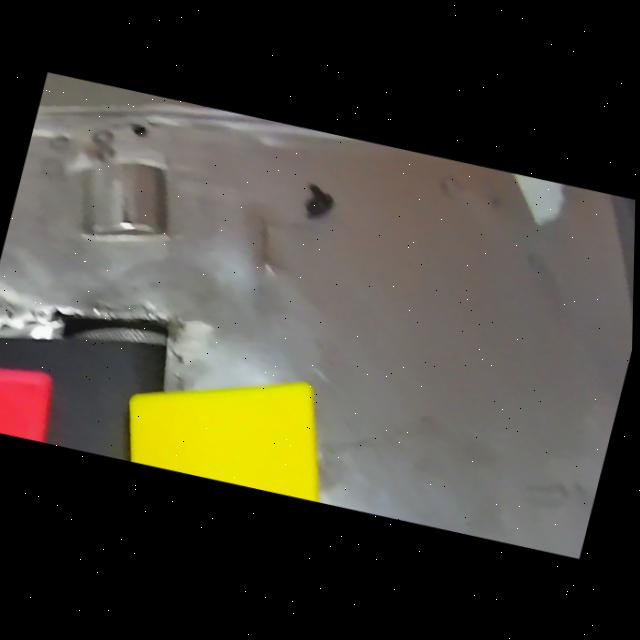redBox: (0, 345, 82, 447)
yellowBox: (110, 341, 355, 507)
